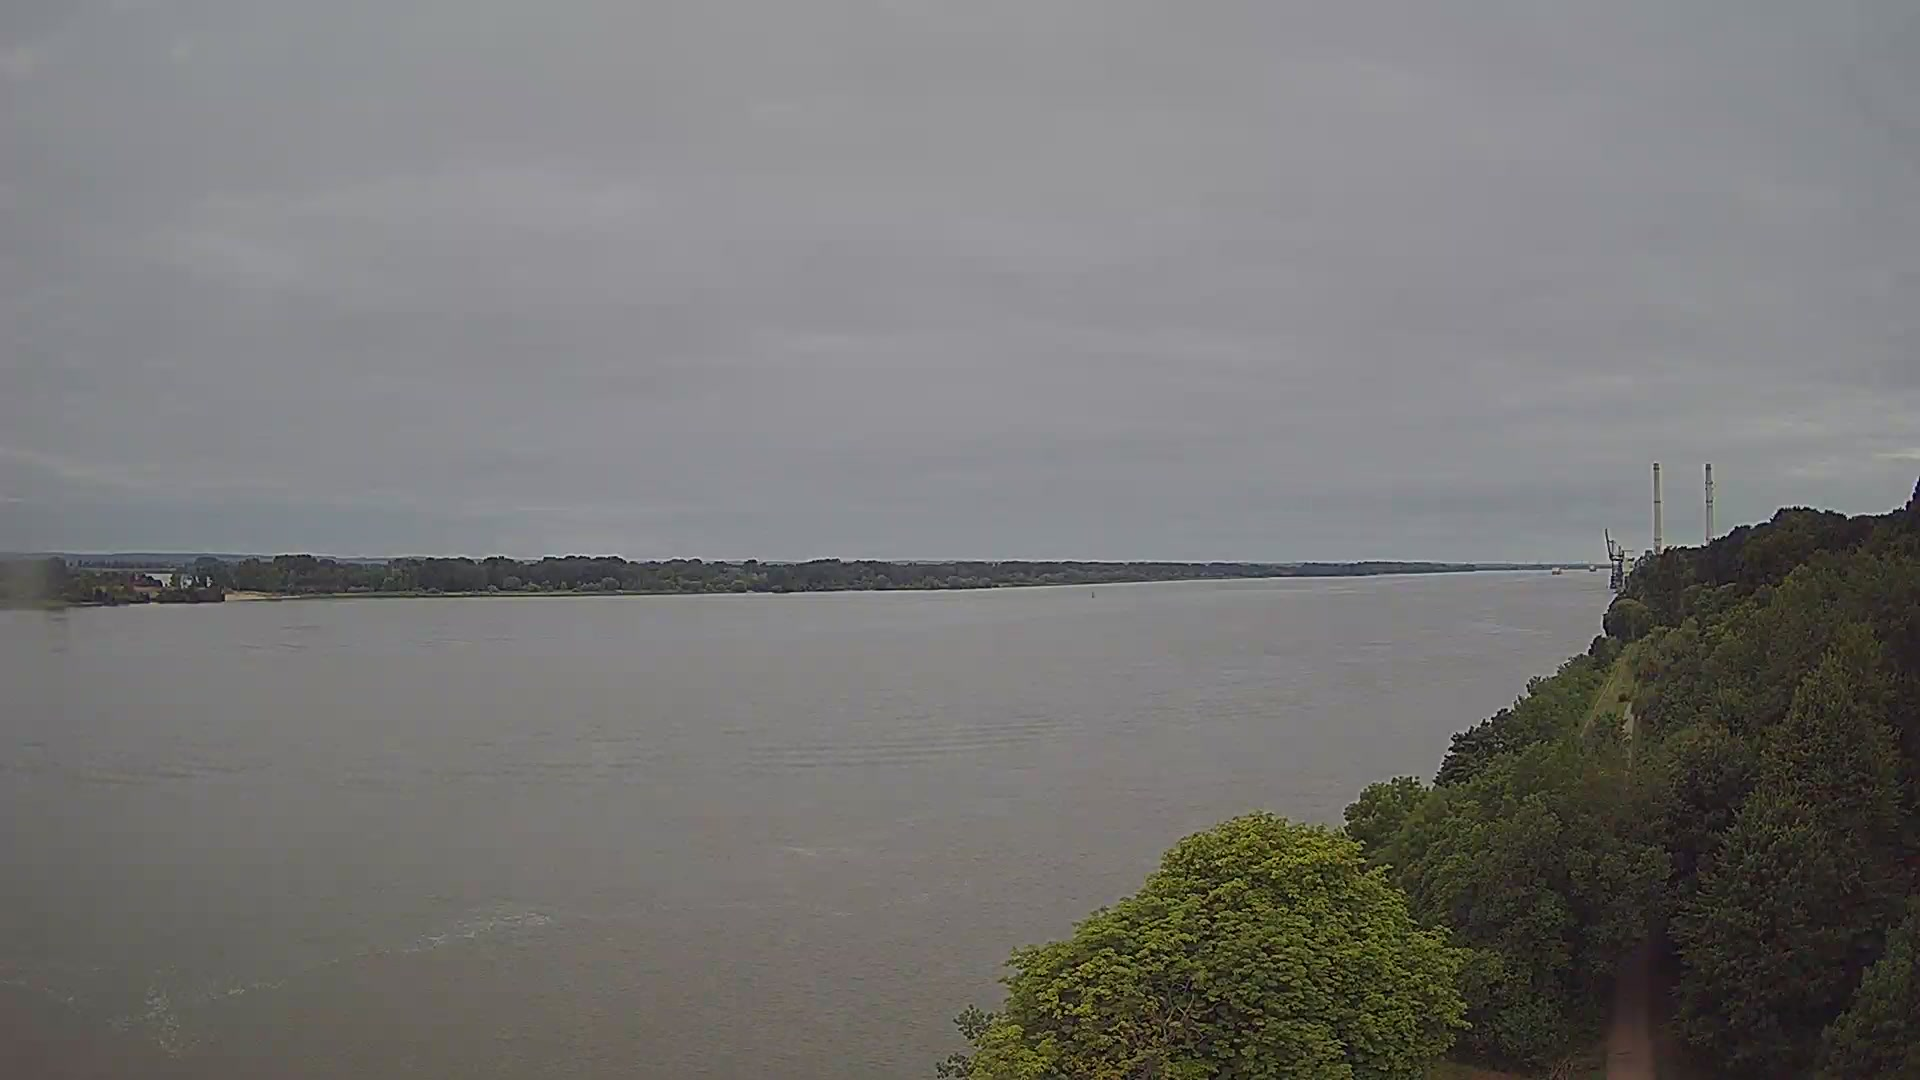sea: (1551, 566, 1561, 574), (1589, 564, 1597, 571)
